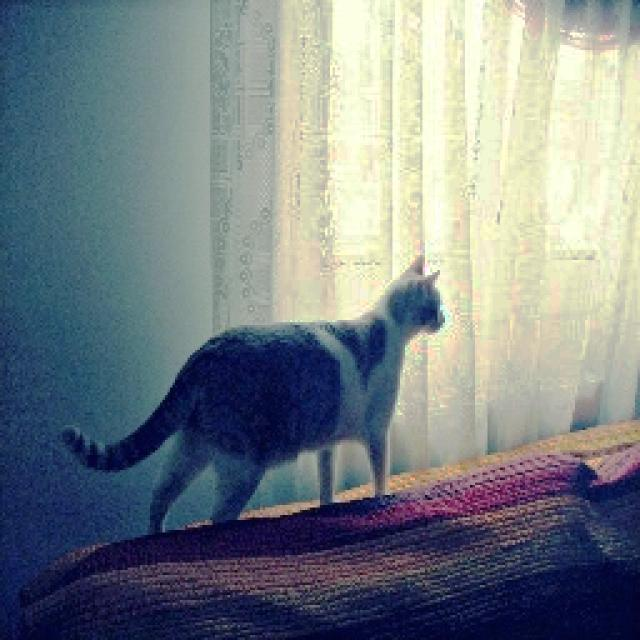cat: (61, 230, 463, 542)
